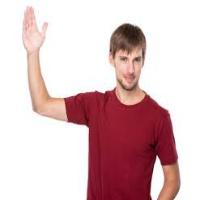ring: (24, 8, 27, 31)
